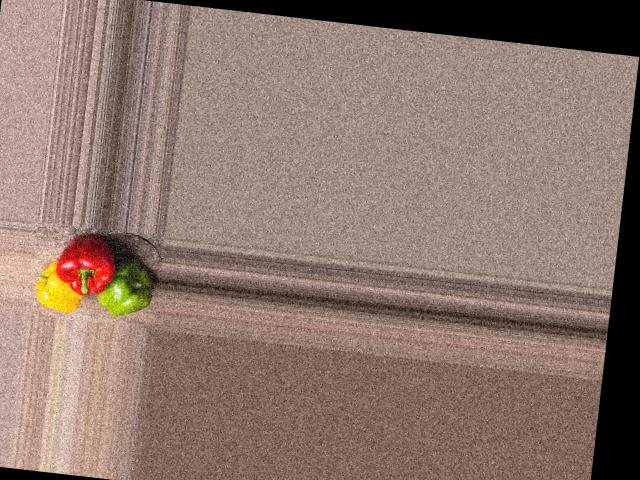bell_pepper: (33, 258, 85, 316)
